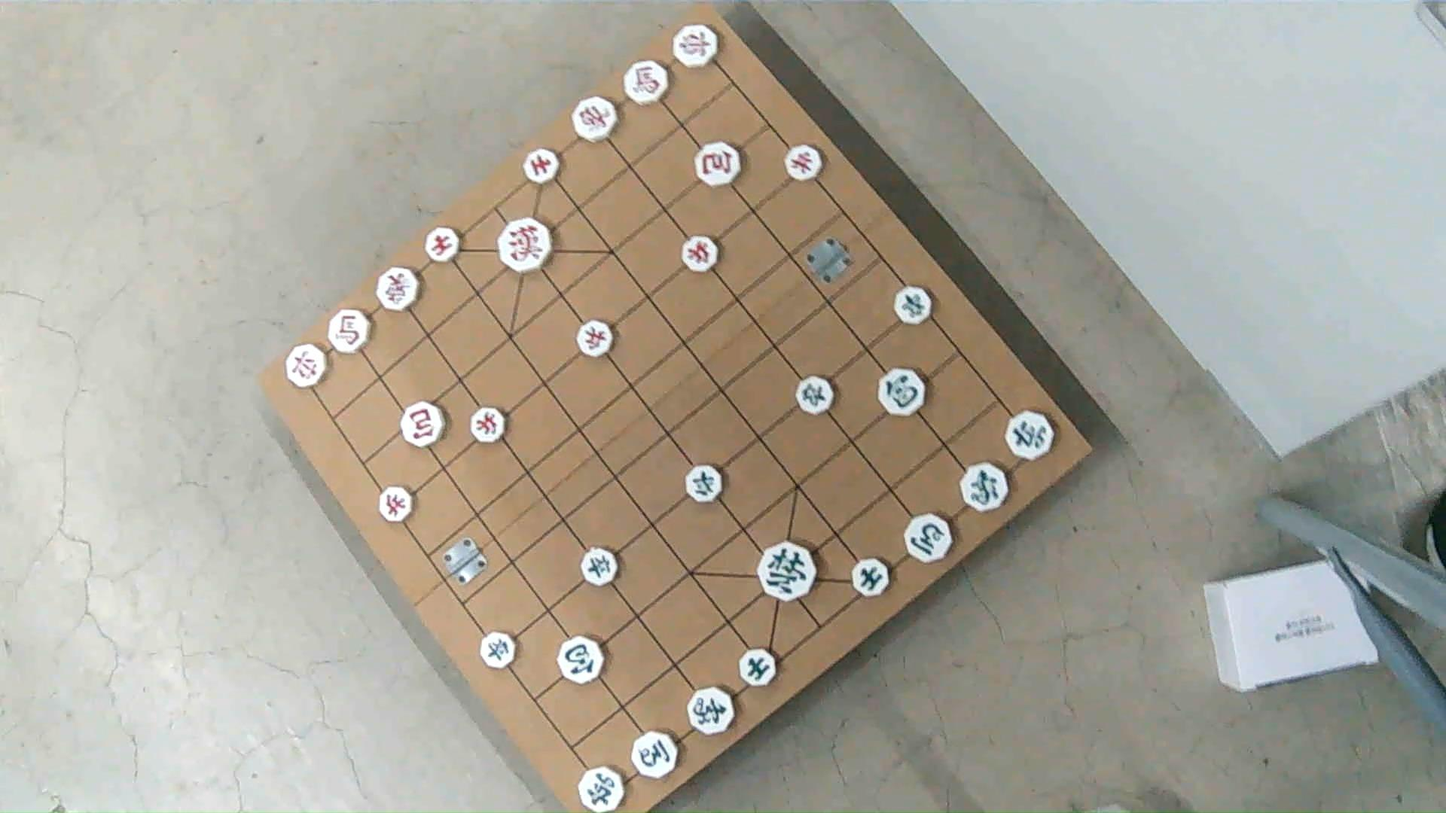cha_green: (1005, 412, 1054, 461), (577, 768, 624, 813)
cha_red: (670, 23, 721, 68), (285, 344, 328, 388)
jol_green: (796, 373, 835, 413), (682, 462, 721, 500), (892, 286, 930, 325), (584, 547, 621, 586), (480, 632, 517, 669)
jol_red: (785, 143, 824, 181), (577, 321, 615, 358), (683, 236, 721, 273), (469, 409, 507, 444), (375, 489, 411, 524)
ma_green: (903, 513, 952, 561), (631, 731, 678, 778)
ma_red: (624, 61, 671, 106), (327, 311, 370, 355)
po_green: (879, 368, 926, 415), (557, 636, 603, 684)
po_red: (398, 401, 443, 446), (697, 142, 743, 185)
sa_green: (743, 648, 780, 687), (853, 559, 890, 597)
sa_red: (520, 149, 560, 184), (427, 229, 464, 264)
sang_green: (958, 463, 1008, 513), (688, 688, 737, 737)
sang_red: (574, 96, 622, 141), (377, 268, 420, 311)
wang_green: (758, 542, 816, 601)
wang_red: (498, 217, 551, 271)
